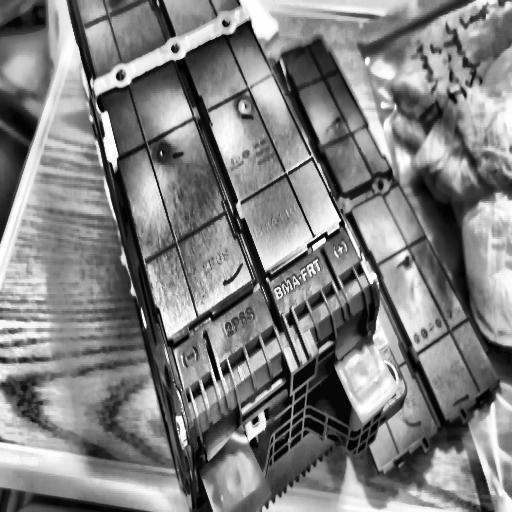battery_module: (64, 0, 402, 512)
